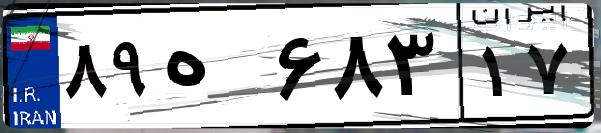1: (475, 38, 525, 113)
3: (385, 28, 445, 110)
6: (270, 28, 330, 110)
7: (525, 38, 570, 115)
8: (330, 28, 385, 110), (57, 26, 110, 100)
9: (110, 28, 158, 98)
ه: (158, 20, 270, 120)
